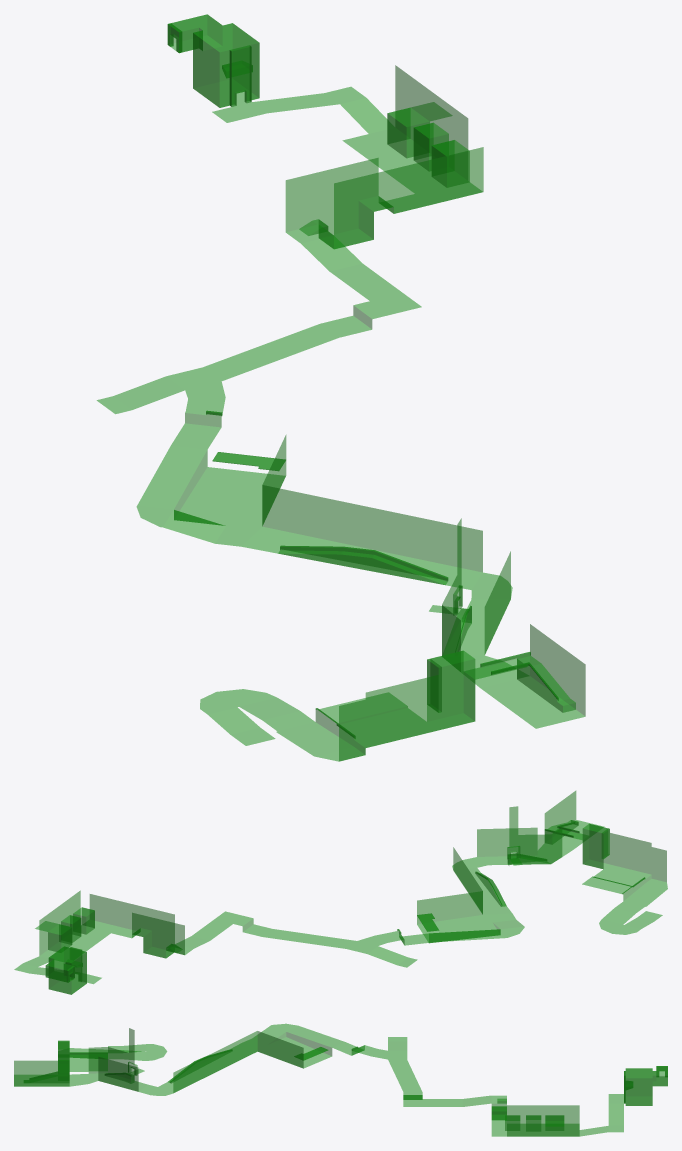
File: A_camerahit.obj
3 views of the same model, one above another, from view 1: azimuth 30°, elevation 25°; view 2: azimuth 150°, elevation 25°; view 3: azimuth 270°, elevation 25° (orthographic). The views are drawn at different scales.
Bounding box in the file's own units: 194 × 56 × 341.
